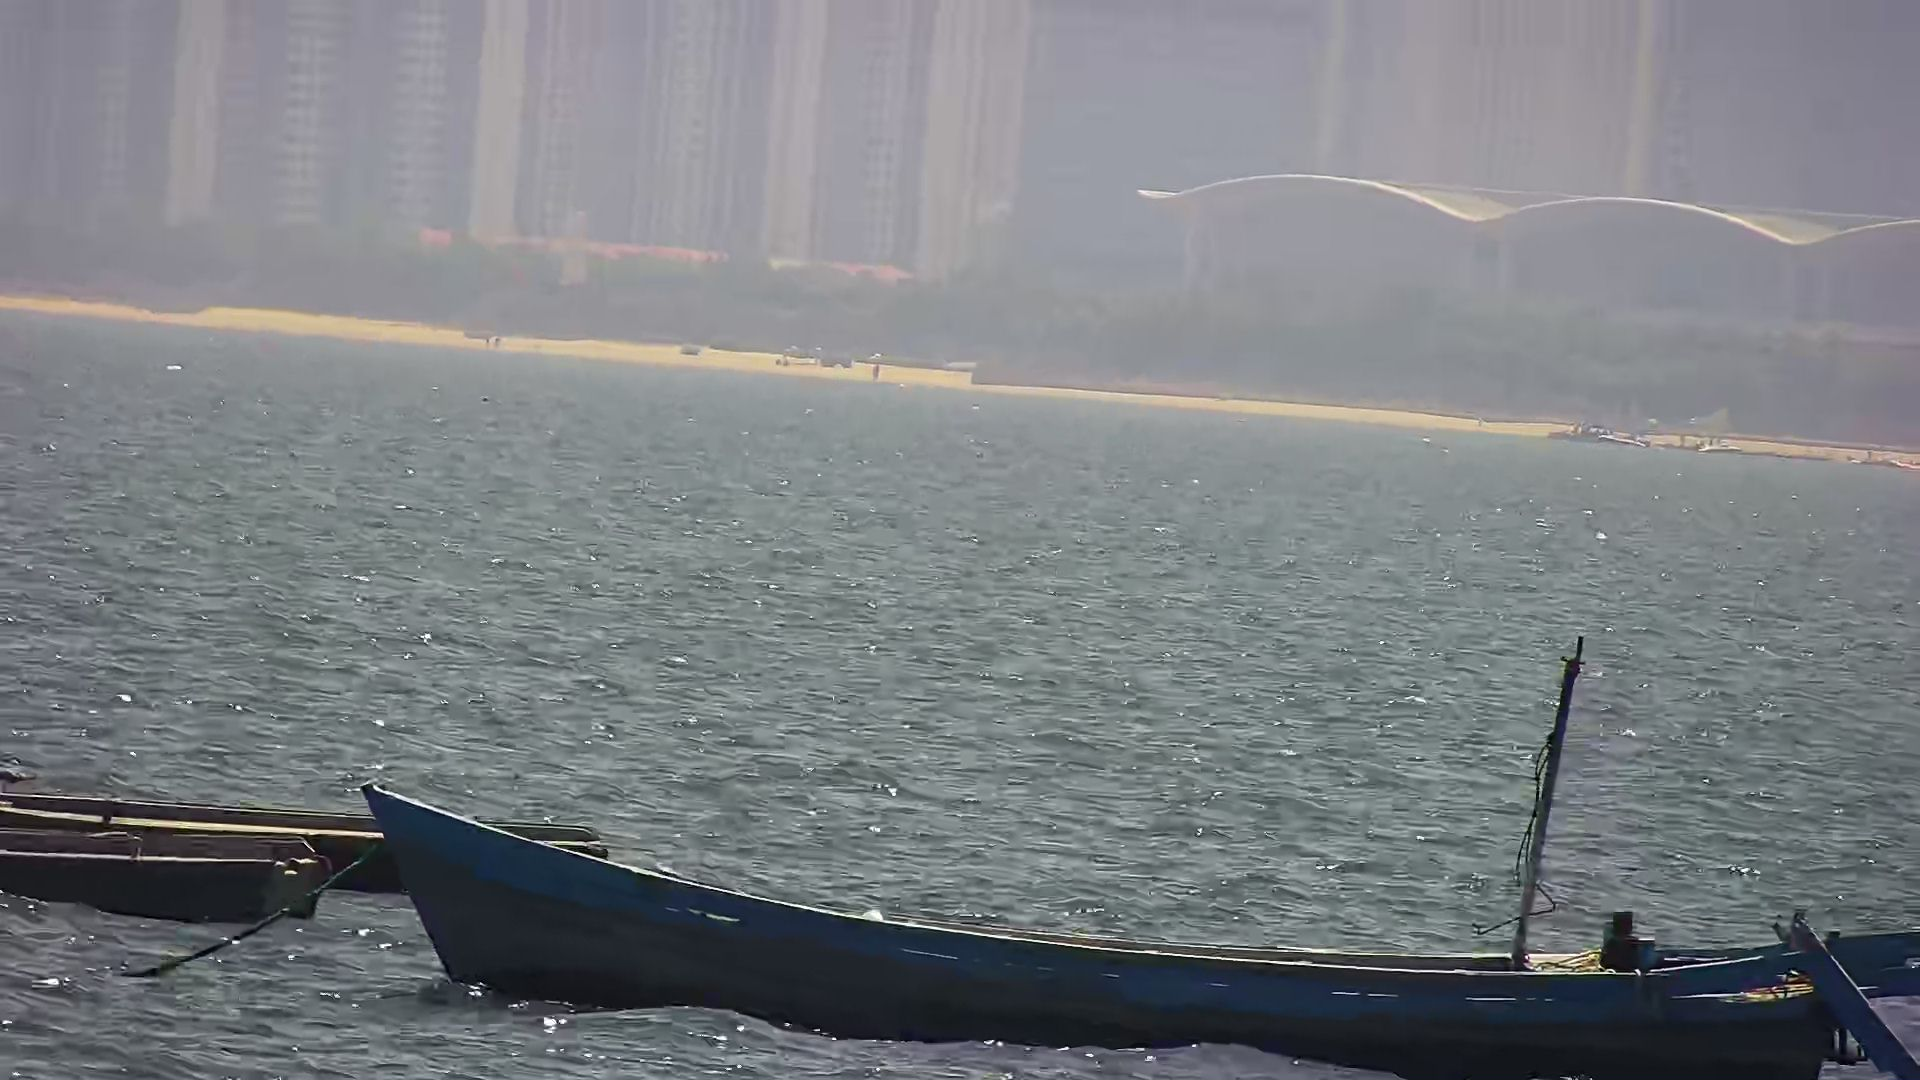boat: (348, 618, 1920, 1080), (1, 758, 663, 868), (3, 818, 348, 918)
